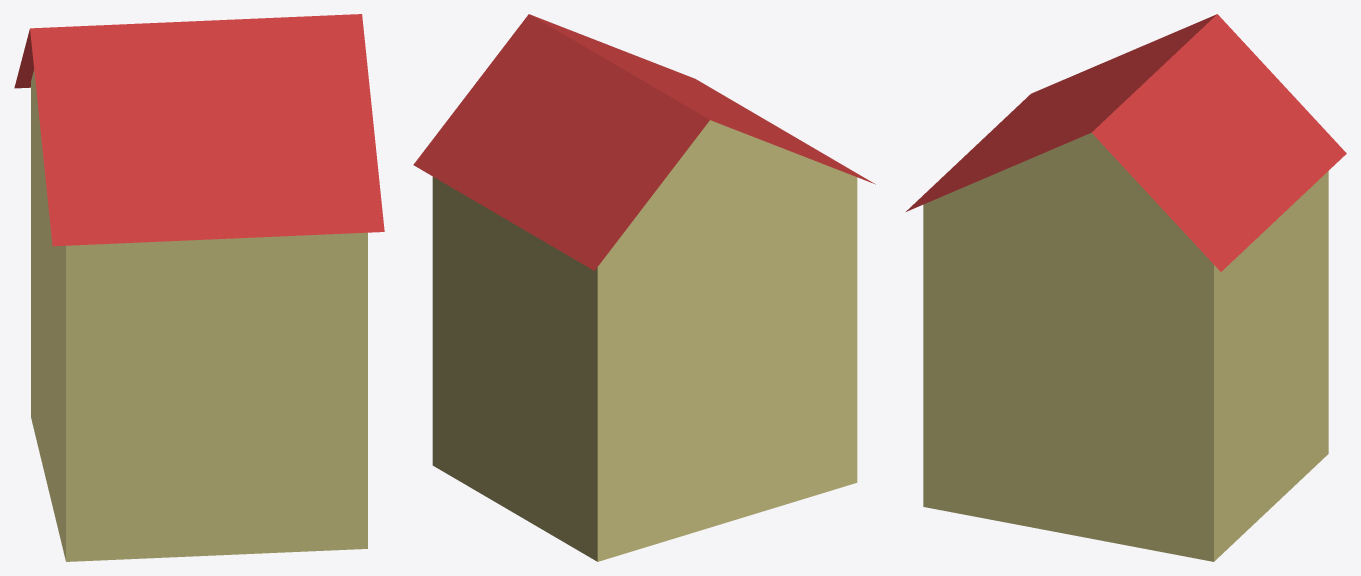
The picture shows the model from 3 angles, left to right: view 1: azimuth 30°, elevation 25°; view 2: azimuth 150°, elevation 25°; view 3: azimuth 270°, elevation 25°; orthographic projection. The views are drawn at different scales.
Size of the model in its own units: 7.59 by 7.94 by 8.18.
